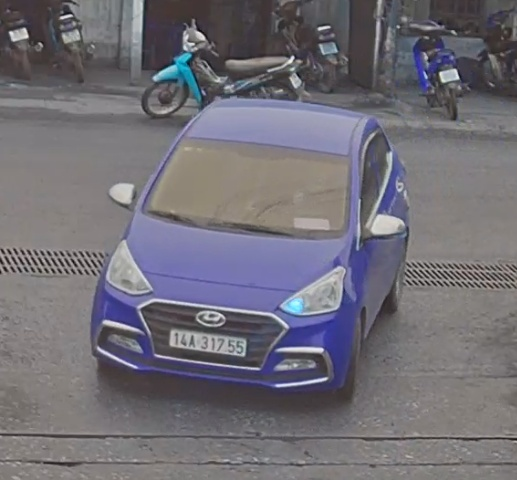vehicle plate: (165, 324, 256, 361)
